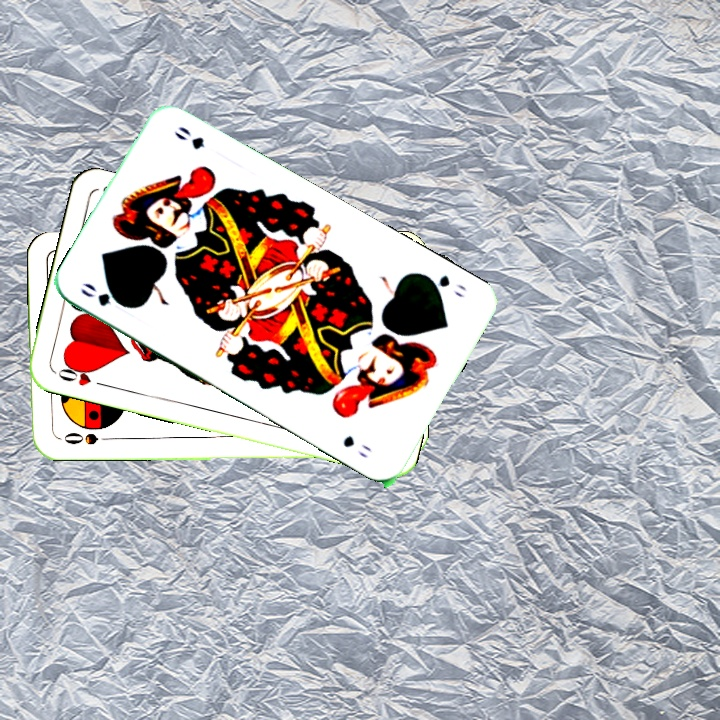GO: (76, 278, 133, 311), (418, 270, 470, 301)
HO: (51, 359, 110, 390)
SO: (60, 429, 101, 448)
